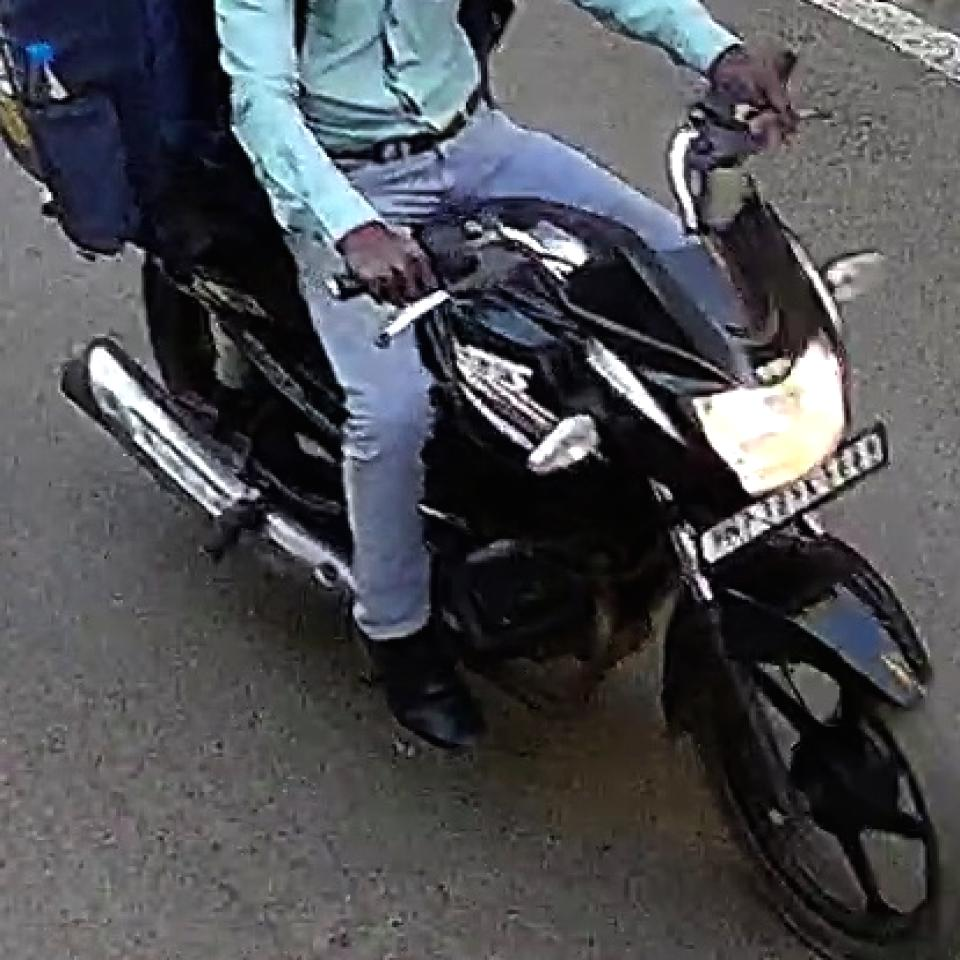head_light: (693, 332, 850, 490)
